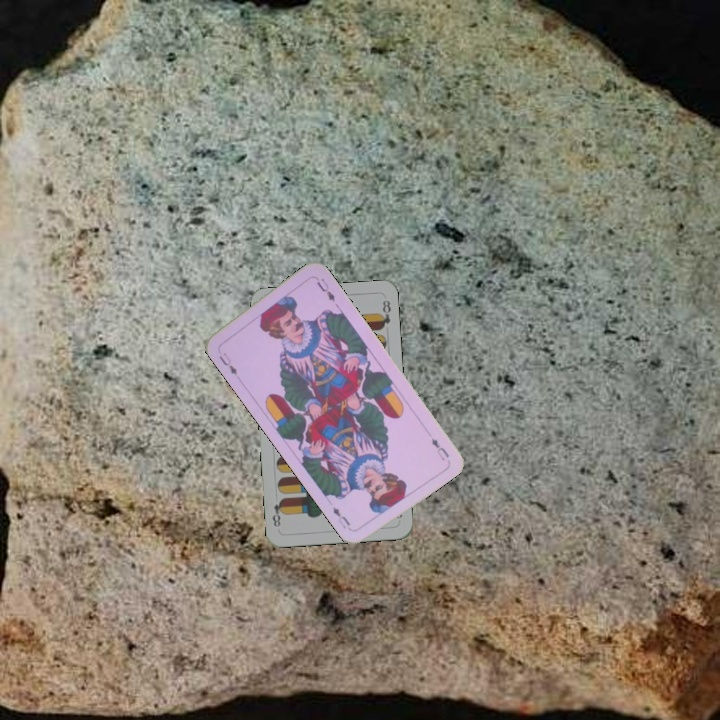EU: (215, 348, 240, 378), (427, 434, 452, 464)
